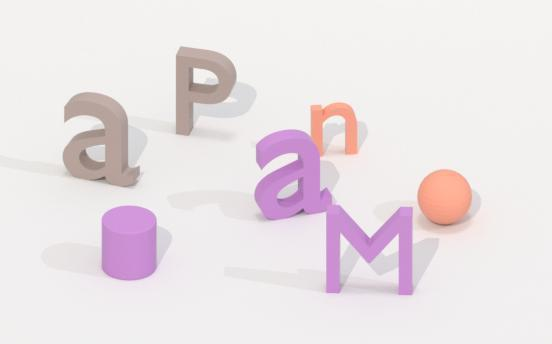chu_khoi: (326, 205, 412, 294), (63, 92, 139, 185), (254, 129, 331, 219), (176, 47, 236, 134), (310, 103, 357, 154)
hinh_cau: (417, 169, 471, 224)
tru: (101, 205, 156, 279)
